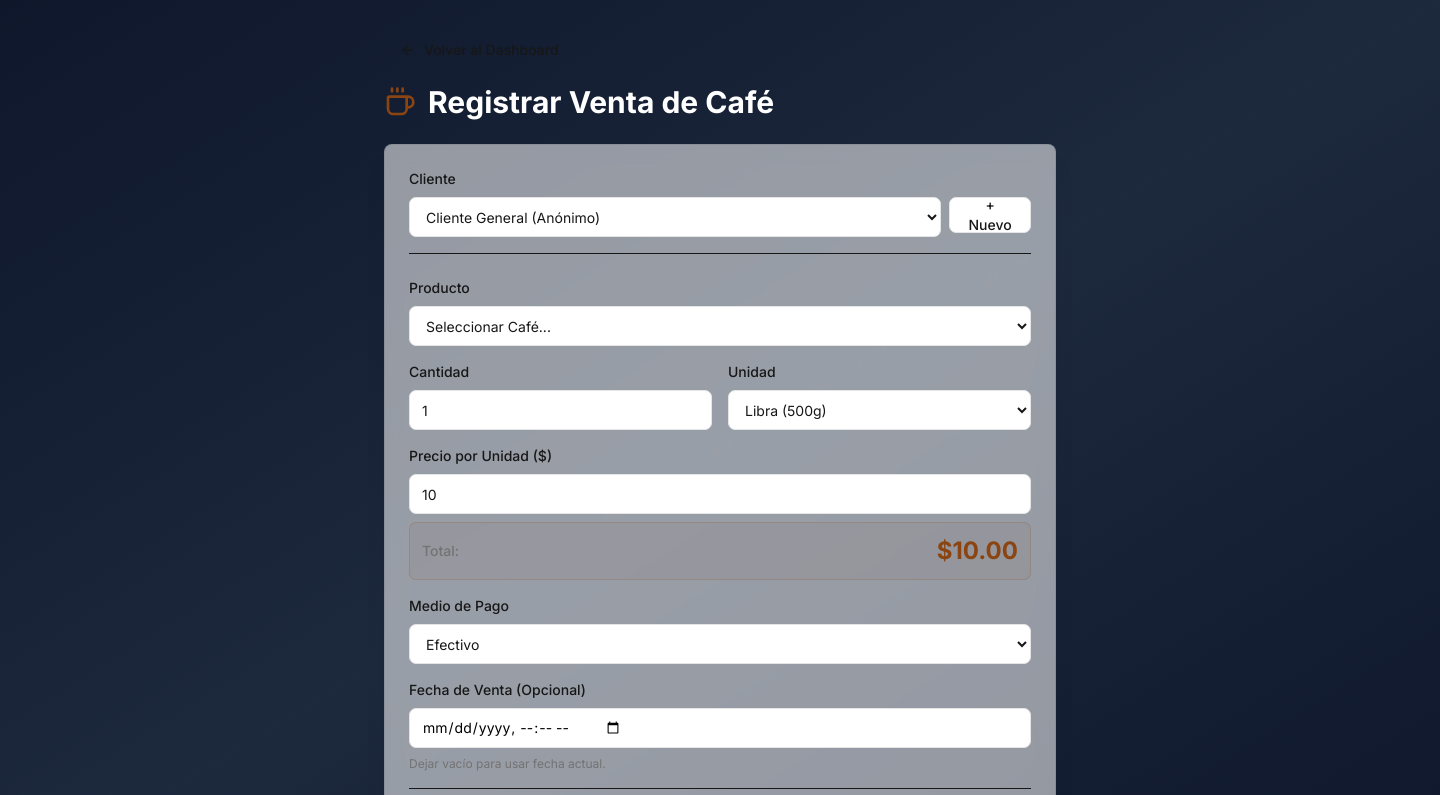
Test: NuevaVentaPage › Customer Selection › should hide new customer form when cancel clicked
Click the button "+ Nuevo".
click(990, 215)  # box [949,197,1031,233]
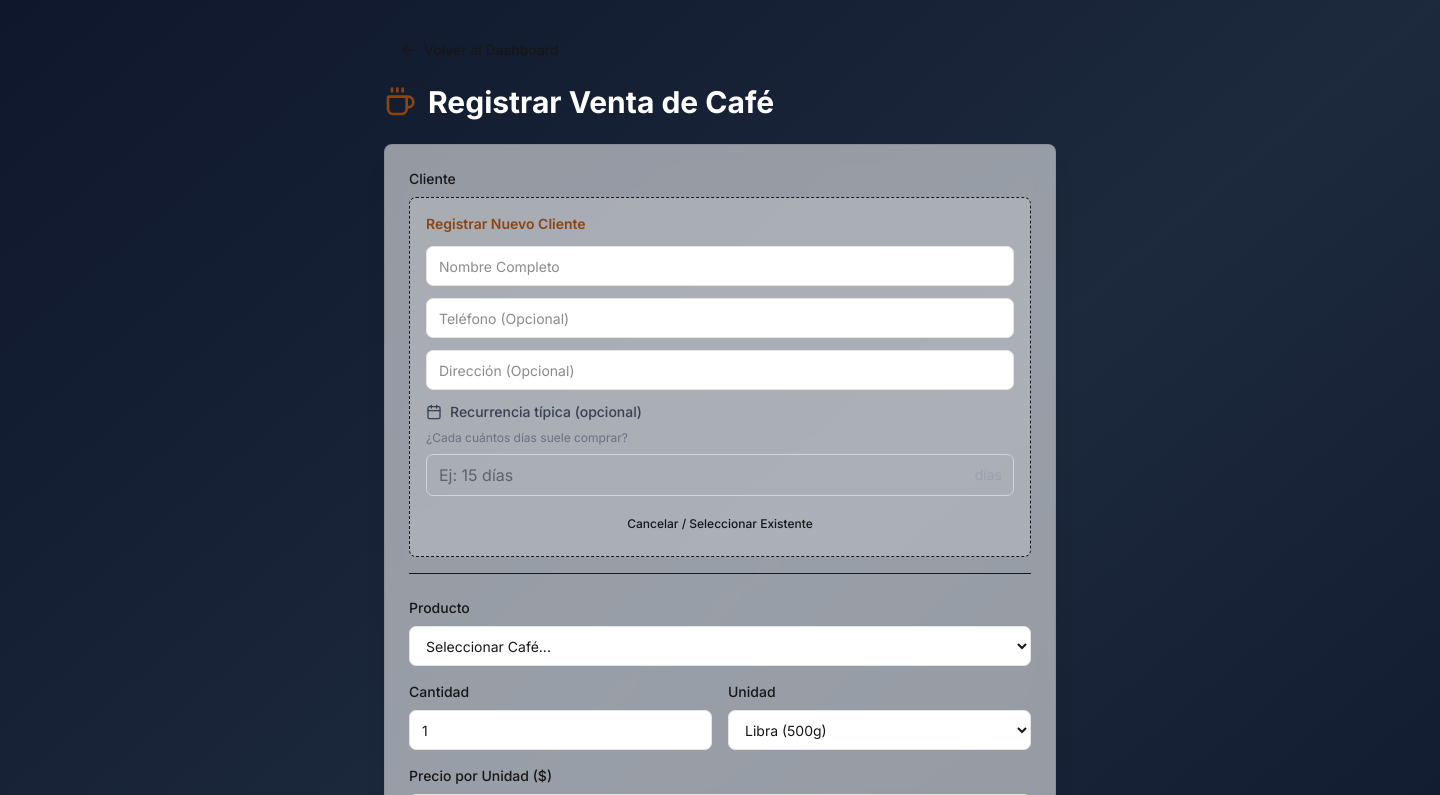
Result: the text "Registrar Nuevo Cliente" is shown at [426,215,586,232]
Click the button "Cancelar / Seleccionar Existente".
click(720, 524)  # box [426,508,1014,540]
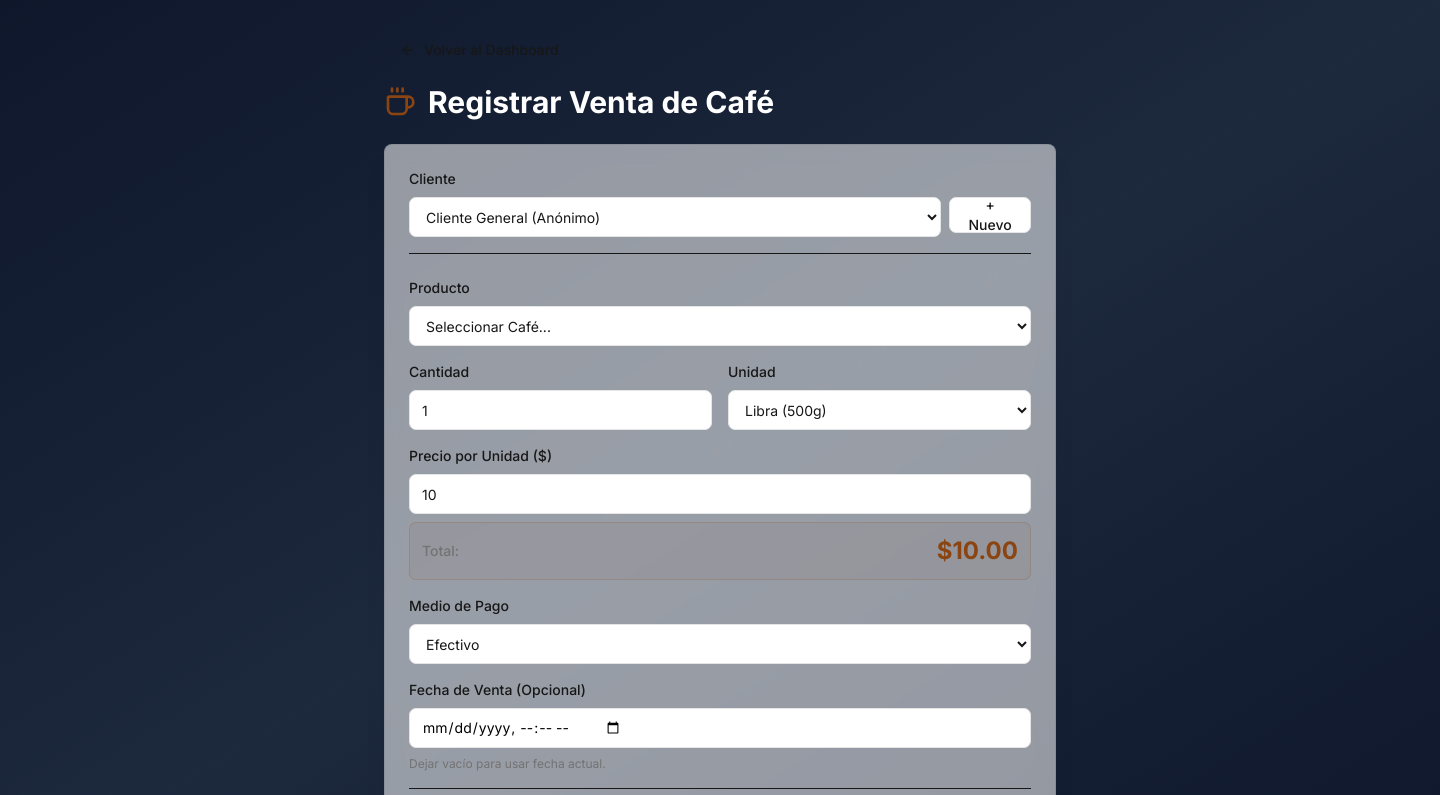
Result: the text "Registrar Nuevo Cliente" is gone
